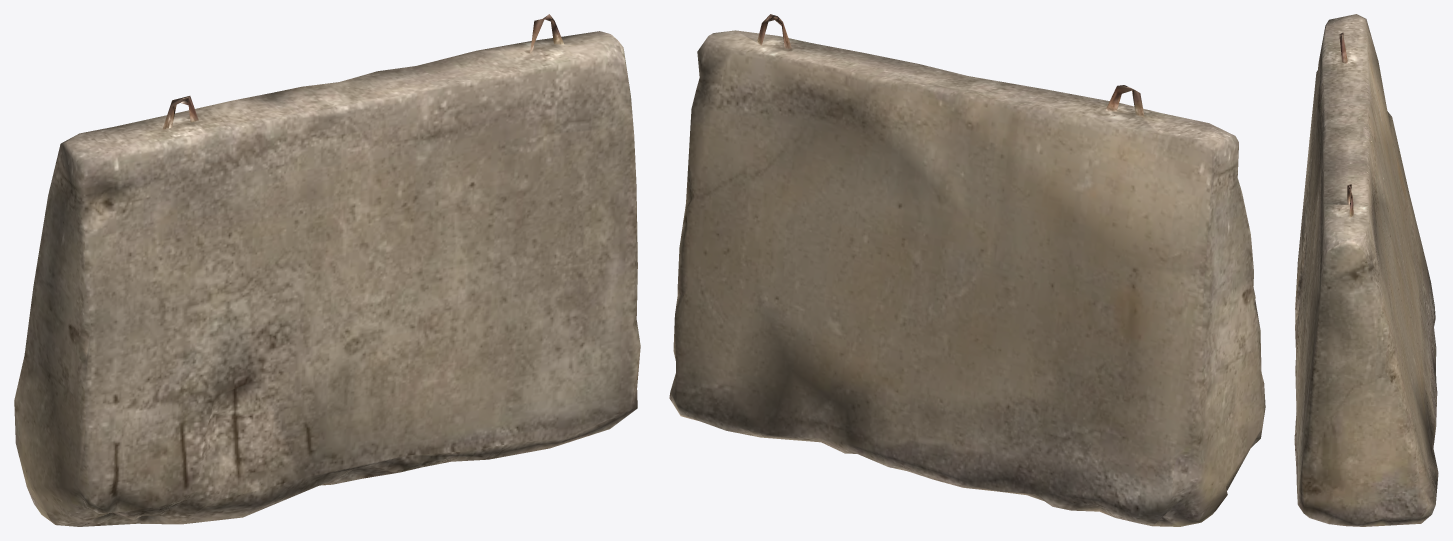
Rendered from concrete_road_barrier_02.glb.
3 views of the same model, side by side, from view 1: azimuth 30°, elevation 25°; view 2: azimuth 150°, elevation 25°; view 3: azimuth 270°, elevation 25° (orthographic). The views are drawn at different scales.
Visible parts, largest first — view 1: concrete_road_barrier_02; view 2: concrete_road_barrier_02; view 3: concrete_road_barrier_02.
Boxes of the visible parts, box(x1,y1,x2,y2) form: concrete_road_barrier_02: box(14, 14, 640, 526); concrete_road_barrier_02: box(669, 14, 1265, 526); concrete_road_barrier_02: box(1294, 14, 1438, 526).
Size of the model in its own units: 1.56 by 1.1 by 0.437.
1 material, 1 textured.
